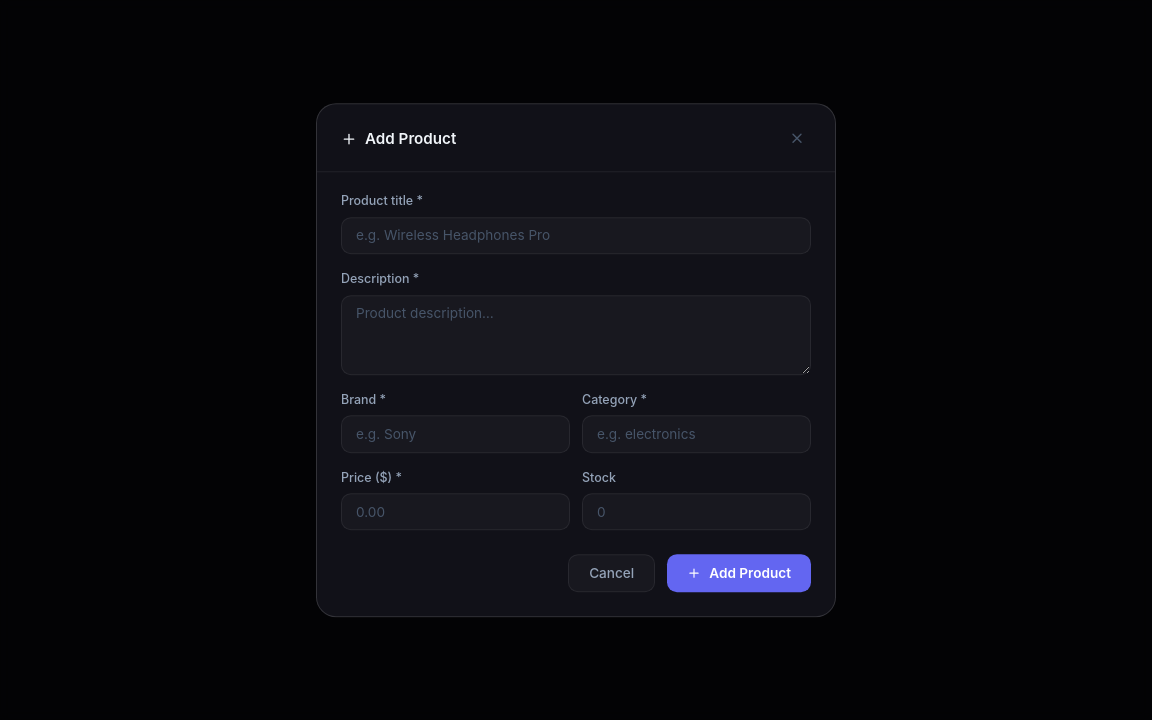
Test: AddProductModal › shows validation errors when submitting empty form
Click the button "Add Product" at (739, 573), box top-left (667, 555), bottom-right (811, 592)
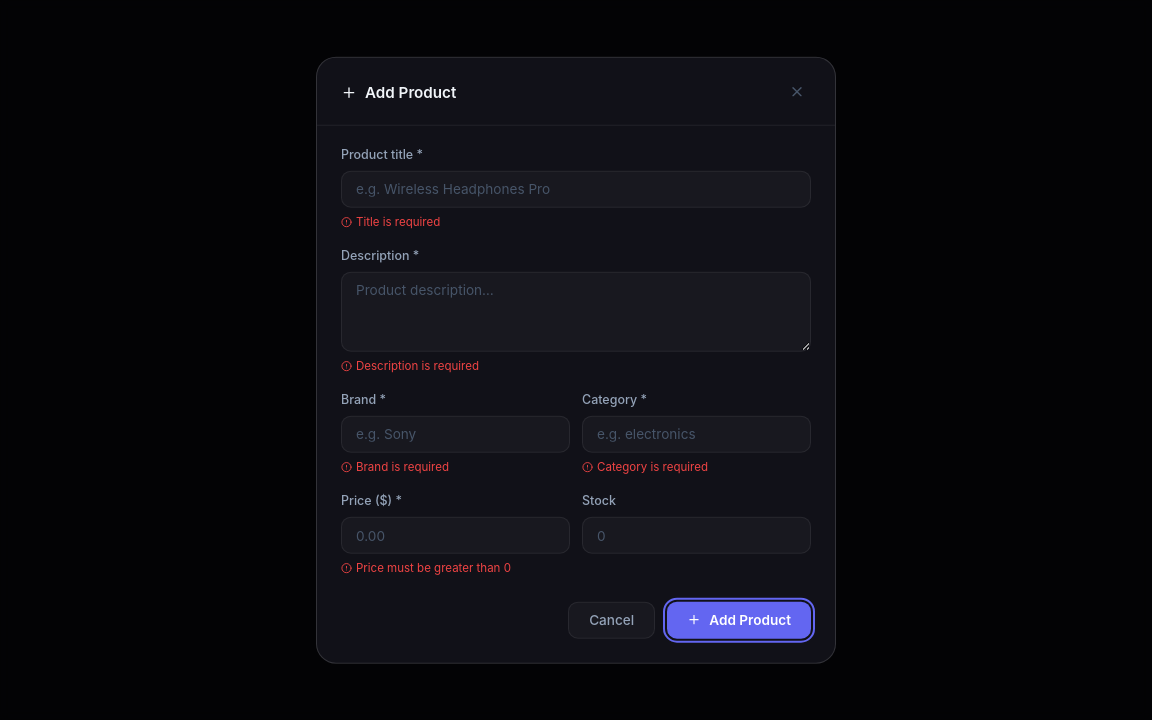
expect the text "Title is required" is shown: met, box top-left (341, 215), bottom-right (440, 229)
